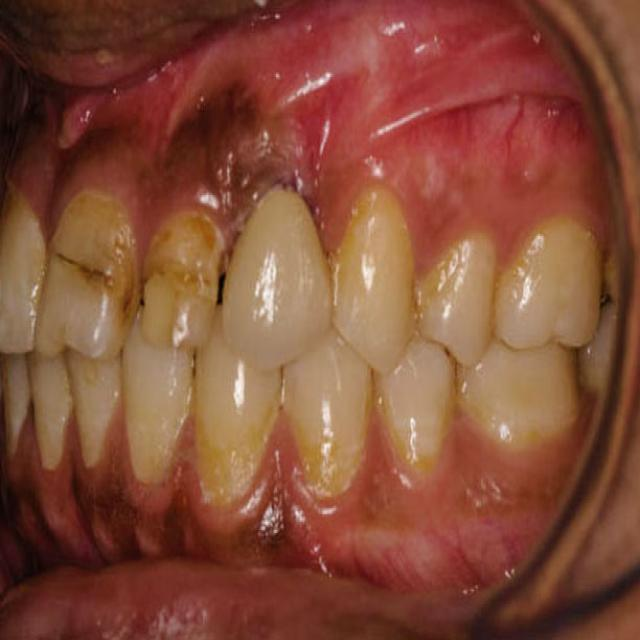caries: (148, 238, 222, 318), (53, 234, 124, 308)
